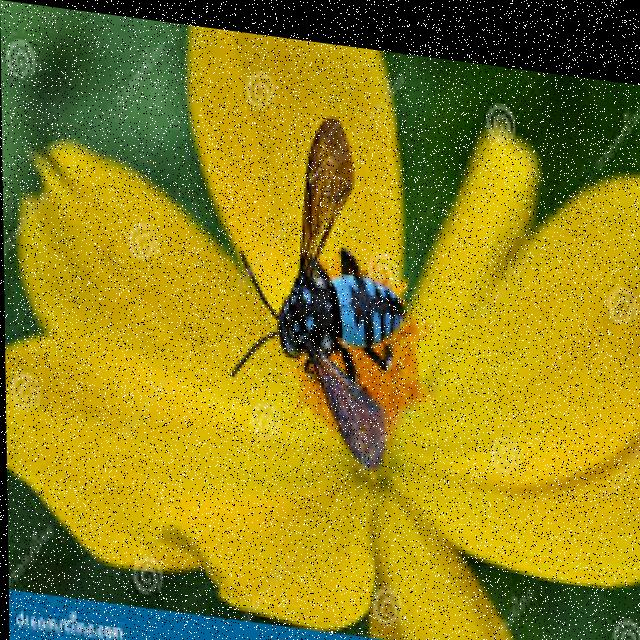Thyreus: (224, 93, 451, 458)
